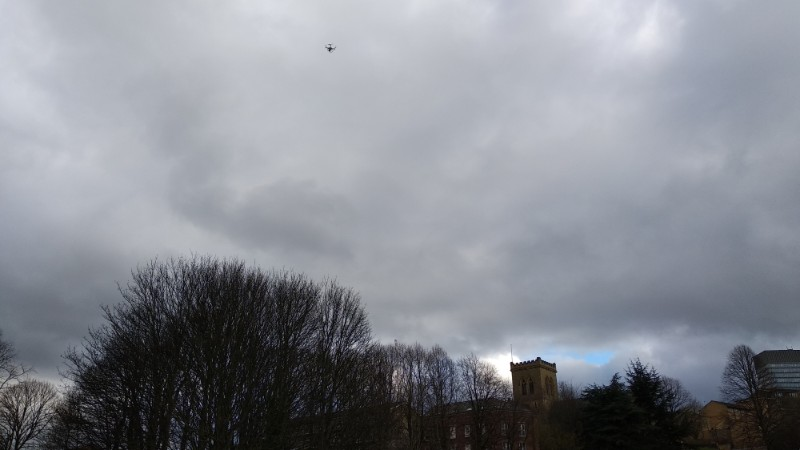drone: (323, 42, 338, 53)
